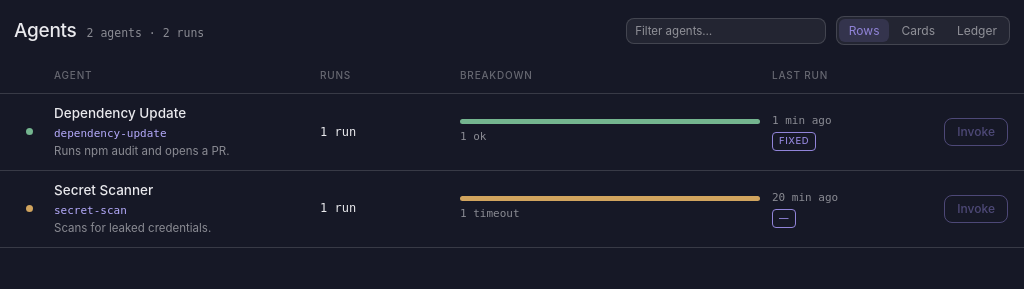
Test: dashboard — variants render from one fixture (AC-107.2) › switches to cards and to ledger via the toggle, from the same data
The width and height of the screenshot is (1024, 289).
Click the button "Cards": coordinates (918, 31) [892,19,945,42]
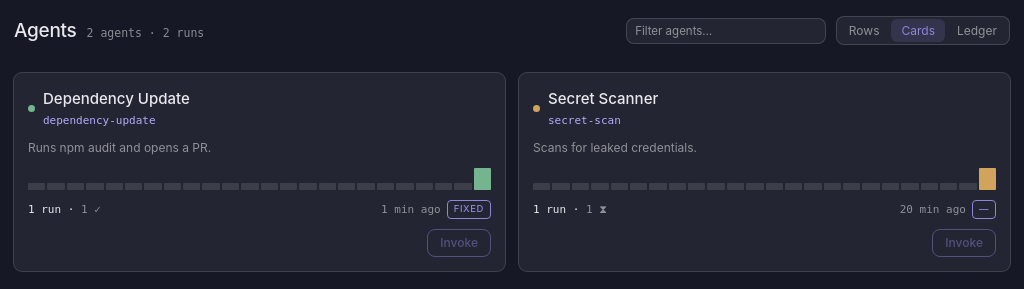
Check: the link "Dependency Update" is shown, box [43,87,190,111]
Check: the table is gone
Click the button "Ledger": coordinates (977, 31) [947,19,1007,42]
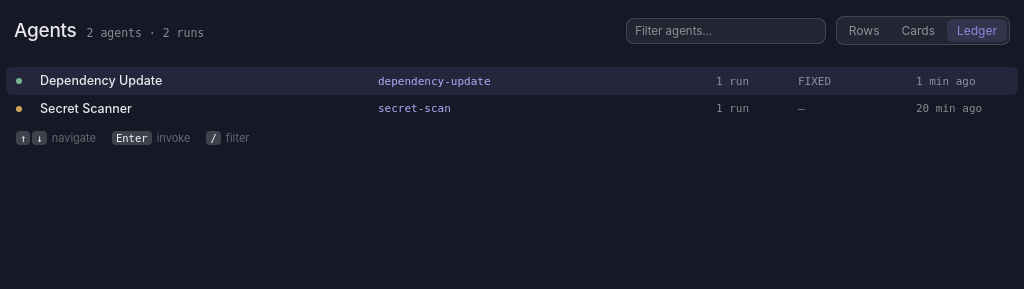
Check: the text "Secret Scanner" is shown, box [40,101,132,116]
Check: the list named "agents ledger" is shown, box [0,59,1023,157]
